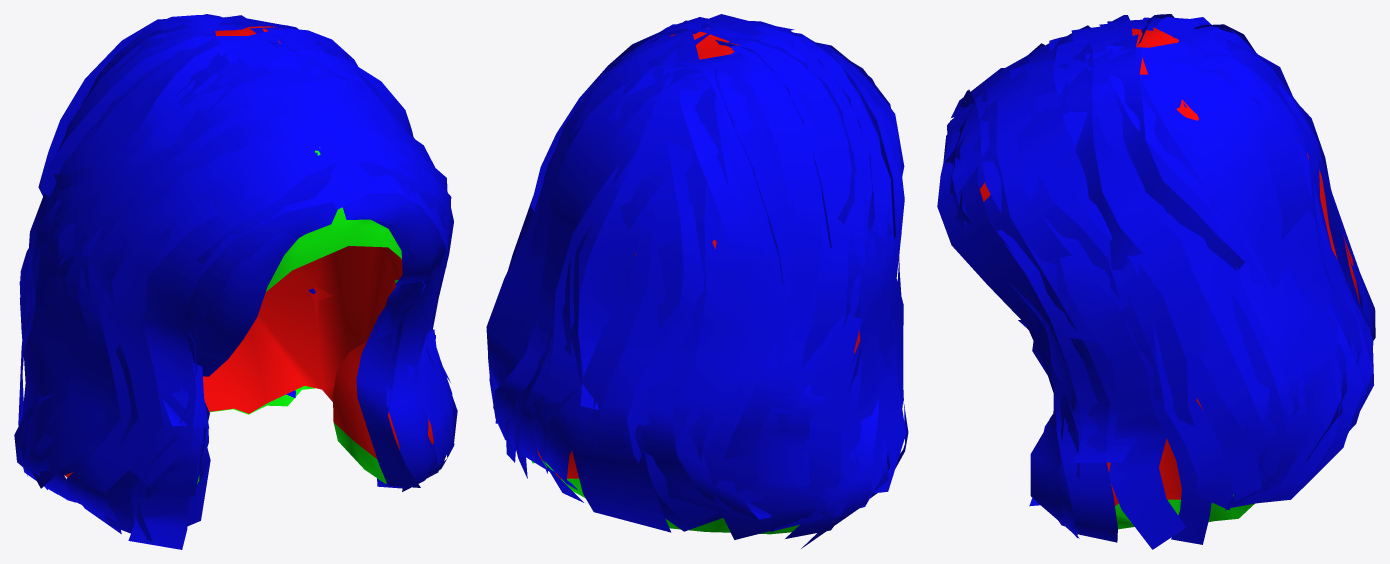
File: hair_008.obj
3 views of the same model, side by side, from view 1: azimuth 30°, elevation 25°; view 2: azimuth 150°, elevation 25°; view 3: azimuth 270°, elevation 25° (orthographic). The views are drawn at different scales.
Bounding box in the file's own units: 24.55 × 29.03 × 26.02.
